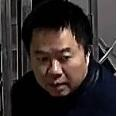caibo: (23, 23, 88, 97)
